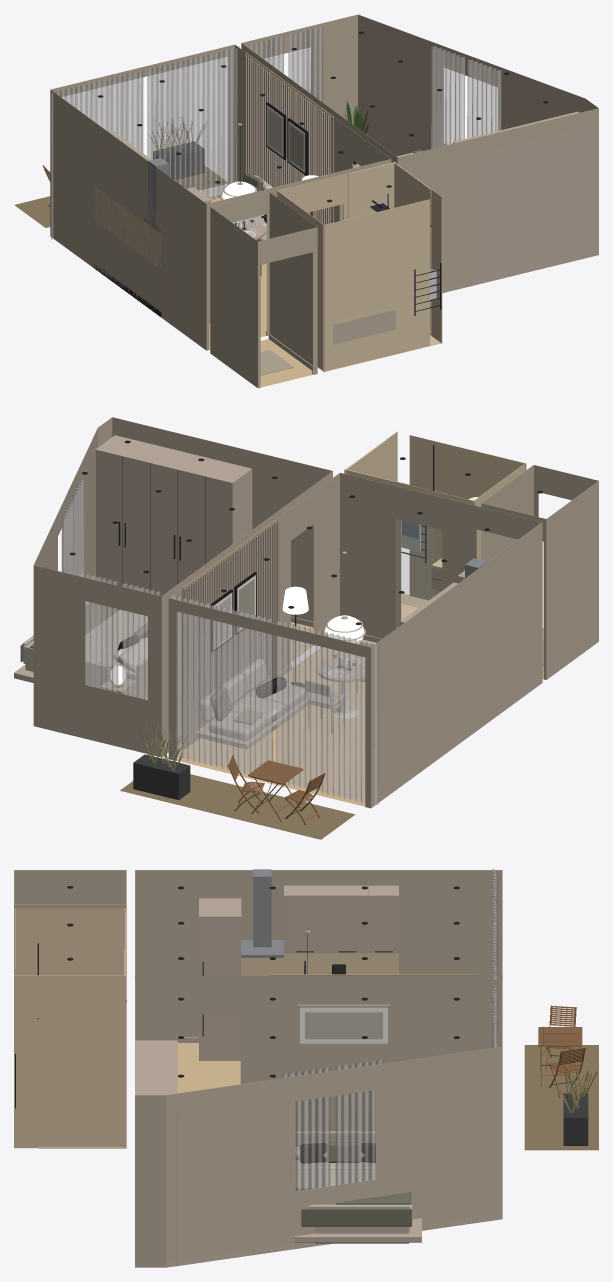
Rendered from unit-1.B-natura.glb.
3 views of the same model, one above another, from view 1: azimuth 30°, elevation 25°; view 2: azimuth 150°, elevation 25°; view 3: azimuth 270°, elevation 25° (orthographic). The views are drawn at different scales.
Visible parts, largest first — view 1: int-wall, int-sheer, int-joineryTall, int-bathWall, int-wood, int-joinery, int-showerWall, int-splash, int-skirting, int-deck, int-outdoor, int-feature (+9 smaller); view 2: int-wall, int-sheer, int-joineryTall, int-wood, int-floor, int-bathWall, int-deck, int-sofa, int-duvet, int-glass, int-skirting, int-outdoor (+15 smaller); view 3: int-wall, int-bathWall, int-sheer, int-joineryTall, int-joinery, int-deck, int-wood, int-splash, int-bedThrow, int-duvet, int-floor, int-art:0:2 (+10 smaller).
Part boxes in pixels (x1=…): int-wall: x1=50, y1=14, x2=598, y2=383; int-sheer: x1=51, y1=26, x2=501, y2=239; int-joineryTall: x1=161, y1=111, x2=596, y2=344; int-bathWall: x1=276, y1=162, x2=442, y2=372; int-wood: x1=220, y1=55, x2=331, y2=239; int-joinery: x1=94, y1=130, x2=161, y2=311; int-showerWall: x1=348, y1=162, x2=431, y2=335; int-splash: x1=94, y1=186, x2=161, y2=267; int-skirting: x1=50, y1=232, x2=598, y2=388; int-deck: x1=14, y1=166, x2=227, y2=227; int-outdoor: x1=153, y1=141, x2=204, y2=179; int-feature: x1=245, y1=53, x2=333, y2=223; int-wall: x1=33, y1=417, x2=598, y2=802; int-sheer: x1=61, y1=477, x2=378, y2=804; int-joineryTall: x1=96, y1=435, x2=464, y2=596; int-wood: x1=14, y1=520, x2=365, y2=749; int-floor: x1=177, y1=622, x2=376, y2=806; int-bathWall: x1=344, y1=431, x2=526, y2=628; int-deck: x1=120, y1=774, x2=355, y2=839; int-sofa: x1=199, y1=659, x2=305, y2=740; int-duvet: x1=23, y1=601, x2=147, y2=682; int-glass: x1=401, y1=520, x2=433, y2=607; int-skirting: x1=33, y1=616, x2=598, y2=808; int-outdoor: x1=133, y1=754, x2=190, y2=800; int-wall: x1=14, y1=870, x2=502, y2=1261; int-bathWall: x1=14, y1=908, x2=126, y2=1147; int-sheer: x1=282, y1=868, x2=497, y2=1190; int-joineryTall: x1=135, y1=898, x2=241, y2=1266; int-joinery: x1=284, y1=885, x2=398, y2=953; int-deck: x1=524, y1=1045, x2=598, y2=1150; int-wood: x1=294, y1=930, x2=421, y2=1243; int-splash: x1=241, y1=945, x2=398, y2=975; int-bedThrow: x1=296, y1=1188, x2=411, y2=1226; int-duvet: x1=296, y1=1160, x2=412, y2=1225; int-floor: x1=177, y1=1043, x2=240, y2=1093; int-art:0:2: x1=305, y1=1012, x2=382, y2=1039.
Bounding box in the file's own units: 7.58 × 2.8 × 8.26.
